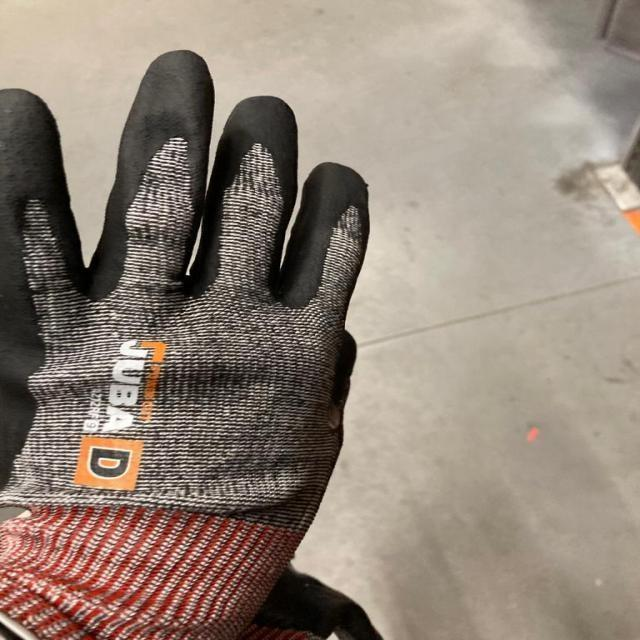glove: (0, 48, 378, 639)
